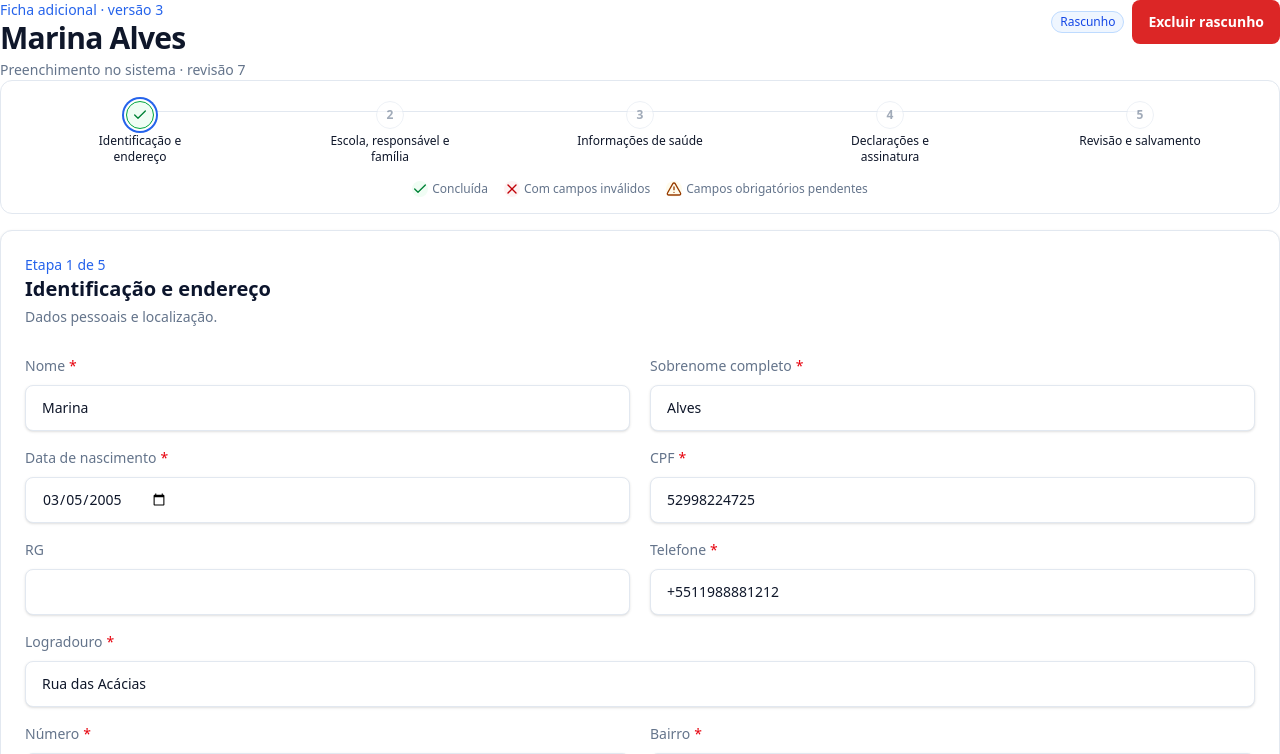
Test case: OratorianoFormEditor › troca o estado inválido por concluído depois da correção
The image size is (1280, 754).
Type "12345678910" into the field labelled "CPF" at (952, 500), box [650,477,1255,523]
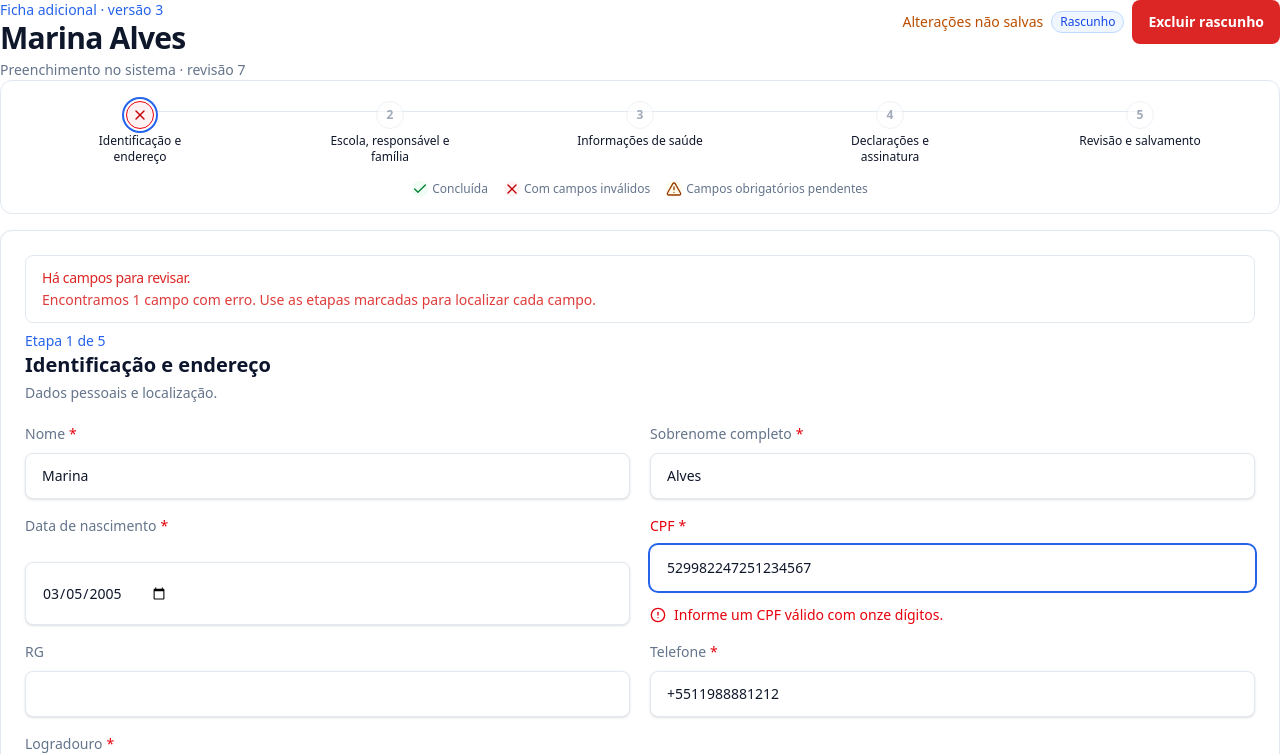
expect the button with aria-label "Etapa 1: Identificação e endereço, com campos inválidos" is shown: met, box [17,97,263,169]
Clear the field labelled "CPF" at (952, 568), box [650,545,1255,591]
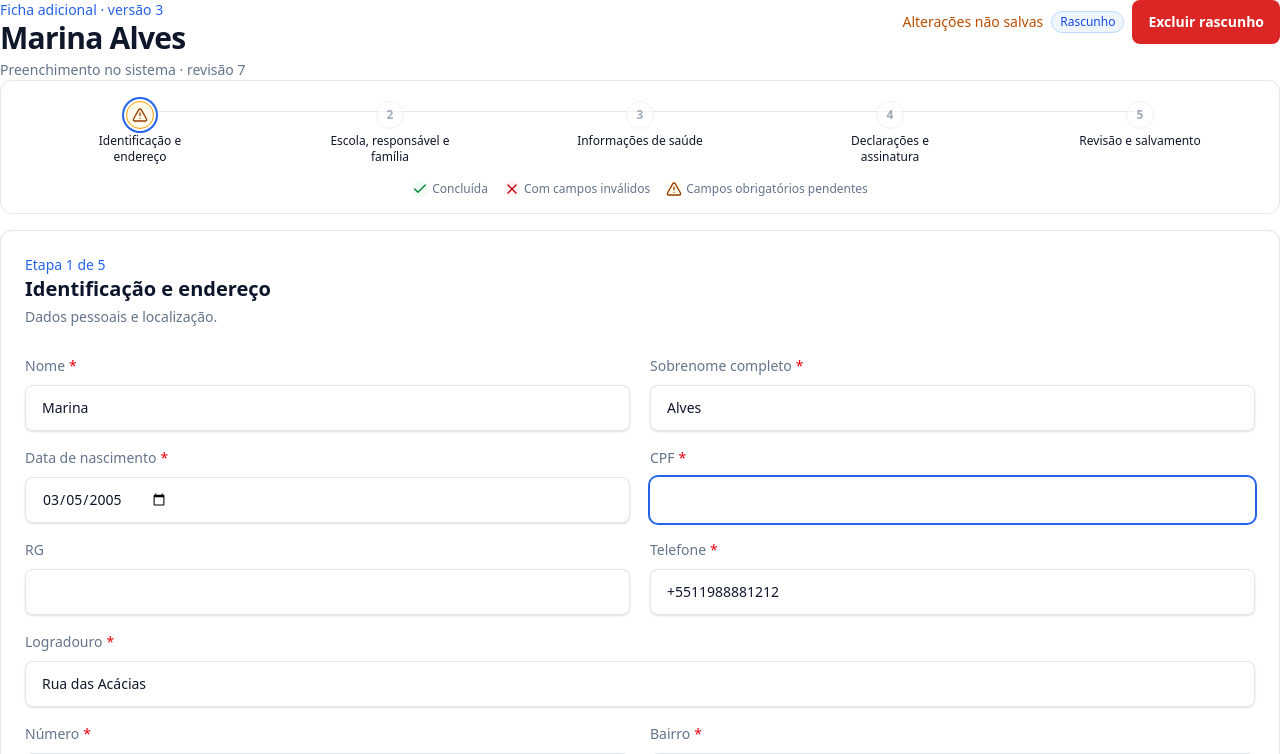
Type "52998224725" into the field labelled "CPF" at (952, 500), box [650,477,1255,523]
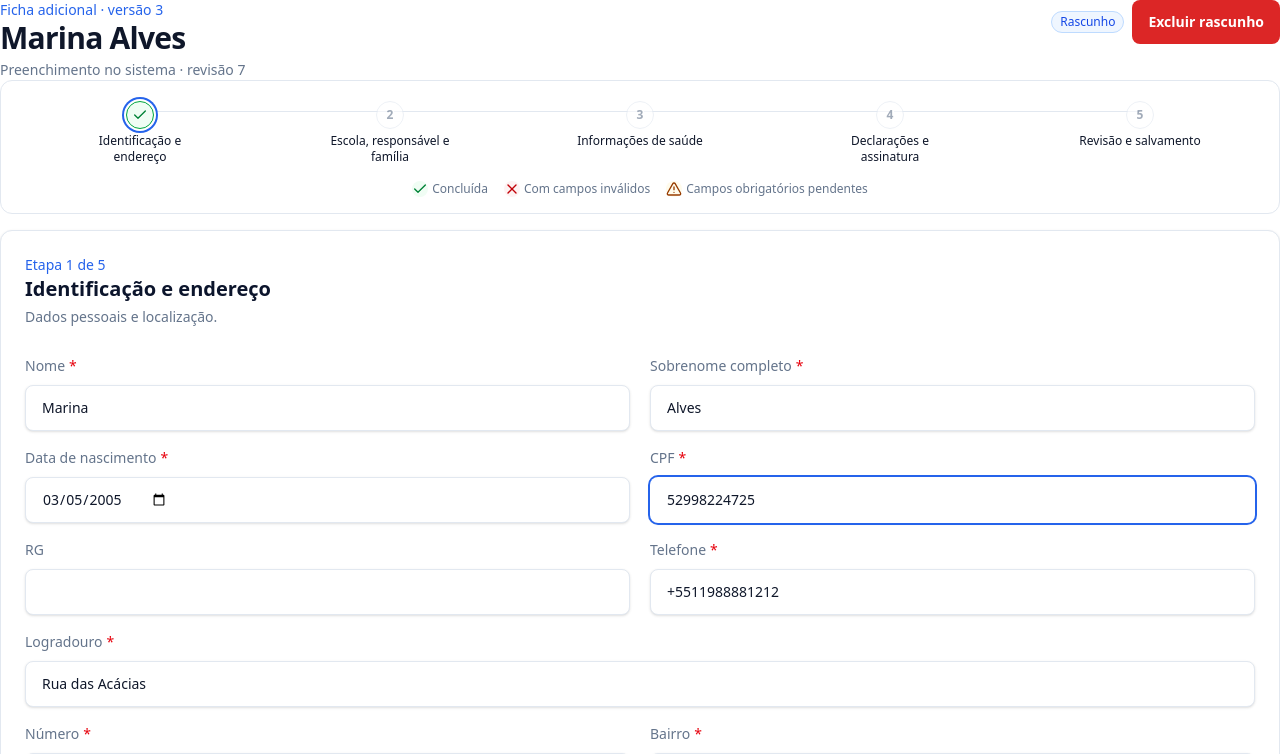
expect the button with aria-label "Etapa 1: Identificação e endereço, concluída" is shown: met, box [17,97,263,169]
